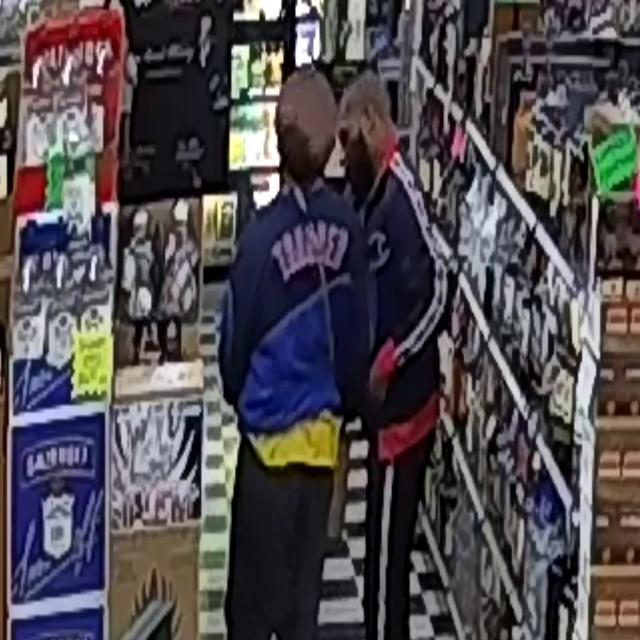normal: (192, 79, 382, 640), (339, 58, 460, 640)
